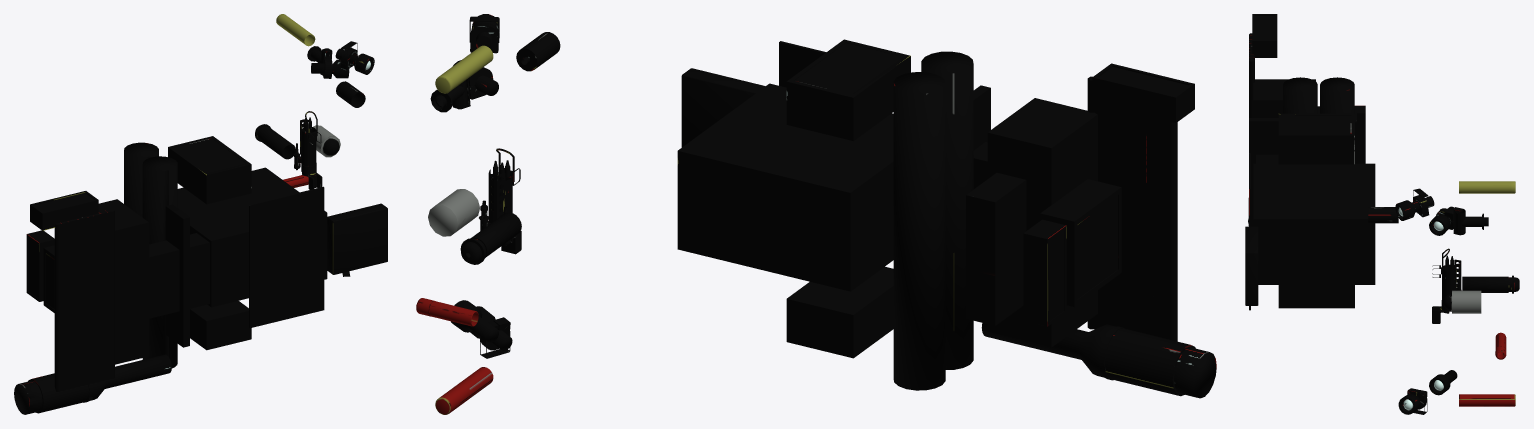
File: ricketts_equipment.obj
3 views of the same model, side by side, from view 1: azimuth 30°, elevation 25°; view 2: azimuth 150°, elevation 25°; view 3: azimuth 270°, elevation 25° (orthographic). The views are drawn at different scales.
Visible parts, largest first — view 1: Equipment.001; view 2: Equipment.001; view 3: Equipment.001.
Part boxes in pixels (bbox=[...]): Equipment.001: bbox=[14, 14, 387, 414]; Equipment.001: bbox=[416, 14, 1216, 414]; Equipment.001: bbox=[1245, 14, 1519, 414].
Bounding box in the file's own units: 3.44 × 1.77 × 1.96.
Materials: 1 (1 with a texture image).
